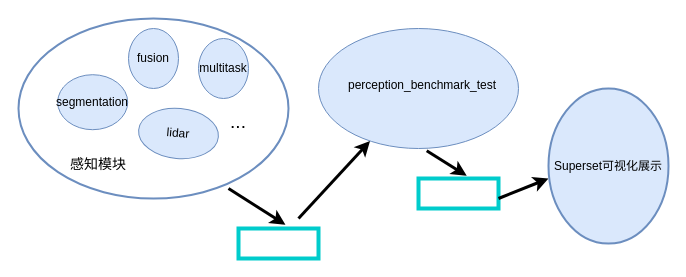
Image size: 686x277. Some labels were removed from this diagram. Here are the shapes that lost their labels. From the top down, the box of each, then its label:
(416, 176, 500, 210): Mysql数据库
(236, 226, 320, 260): 本地json文件
